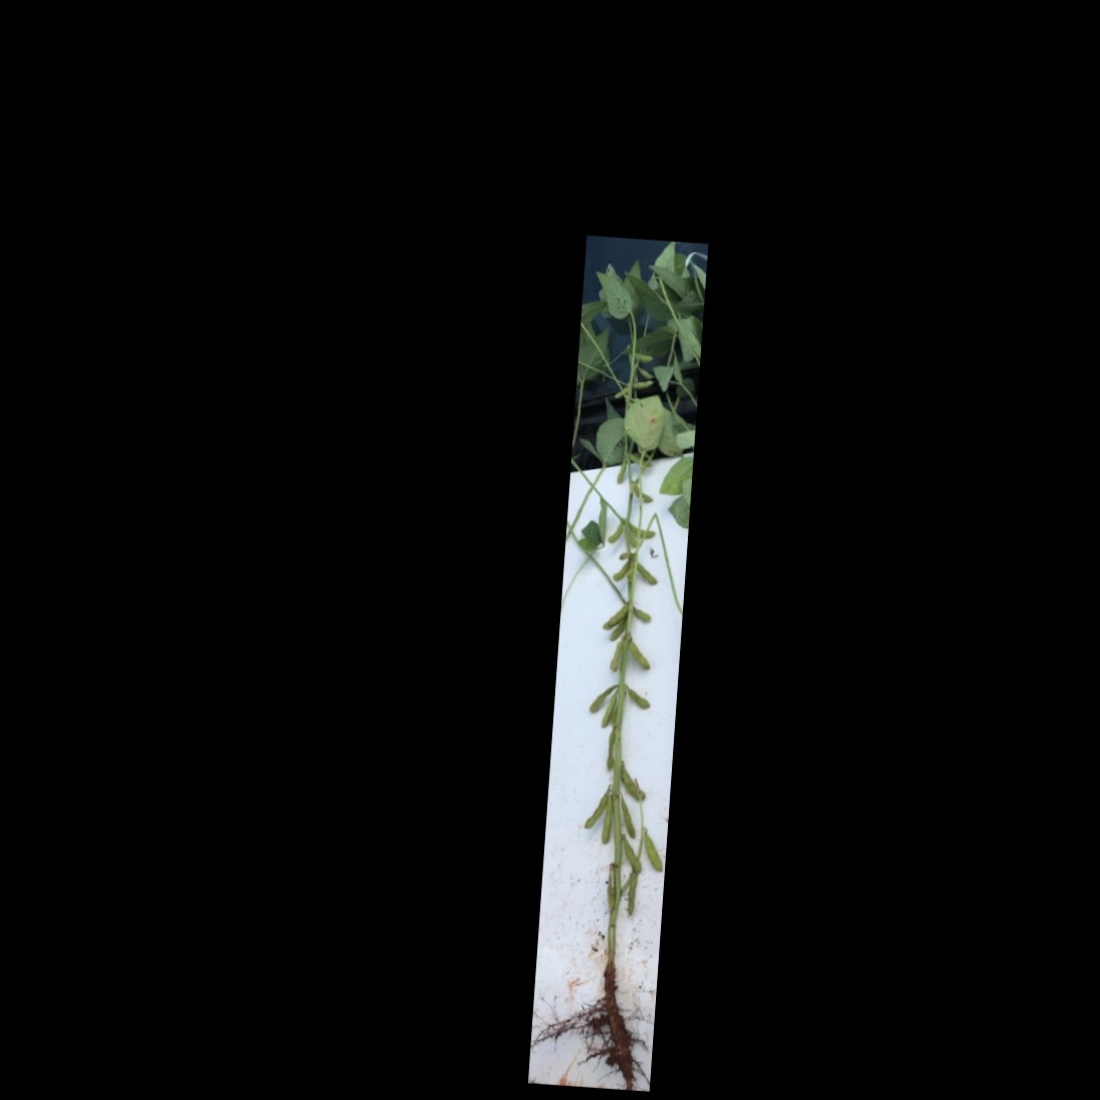pod: (634, 829, 665, 874), (615, 761, 649, 803), (583, 786, 610, 833), (583, 680, 620, 715), (626, 635, 655, 671), (599, 599, 628, 633), (632, 559, 662, 589), (622, 682, 653, 710), (618, 838, 643, 874), (623, 875, 641, 924), (618, 797, 639, 840), (599, 795, 615, 845), (608, 635, 625, 675), (627, 520, 657, 539), (600, 694, 616, 729), (609, 556, 630, 584), (626, 603, 654, 623), (607, 519, 626, 546)
soy: (530, 239, 705, 1080)
